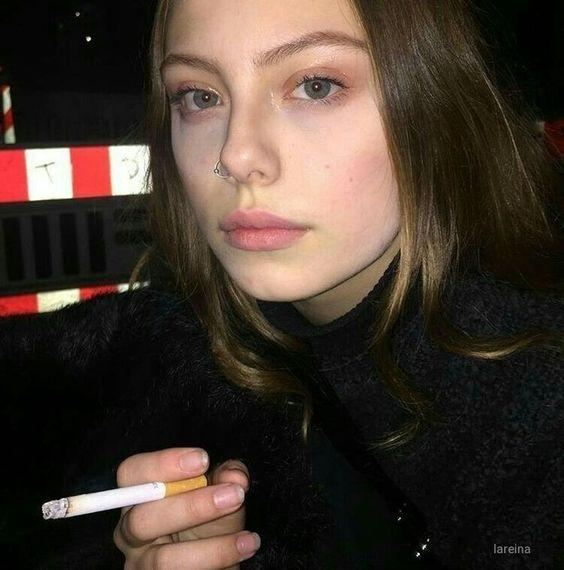cigarette: (42, 475, 208, 521)
